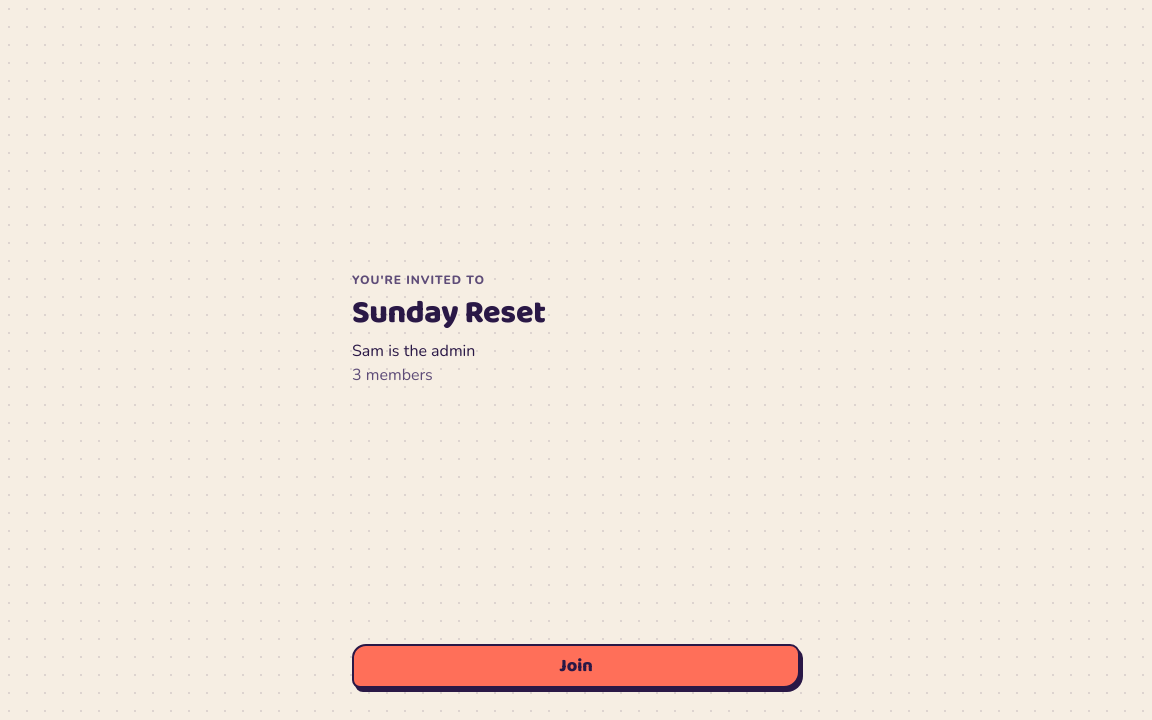
it: join screen (/join/{code}) › invite_not_found at Join after a valid preview: the unknown-code copy and Go to Today
Click the button "Join". click: (576, 666)
box: [352, 644, 800, 688]
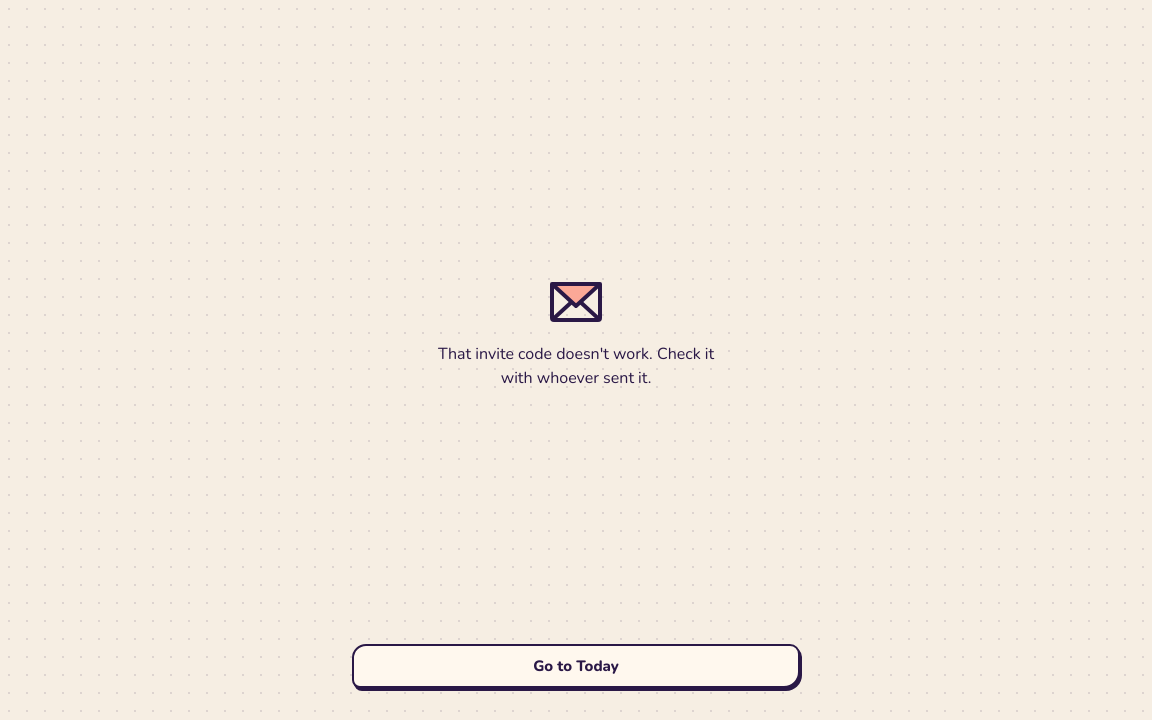
Expected: the text "That invite code doesn't work. Check it with whoever sent it." is shown, [432, 342, 720, 390]
Expected: the button "Go to Today" is shown, [352, 644, 800, 688]
